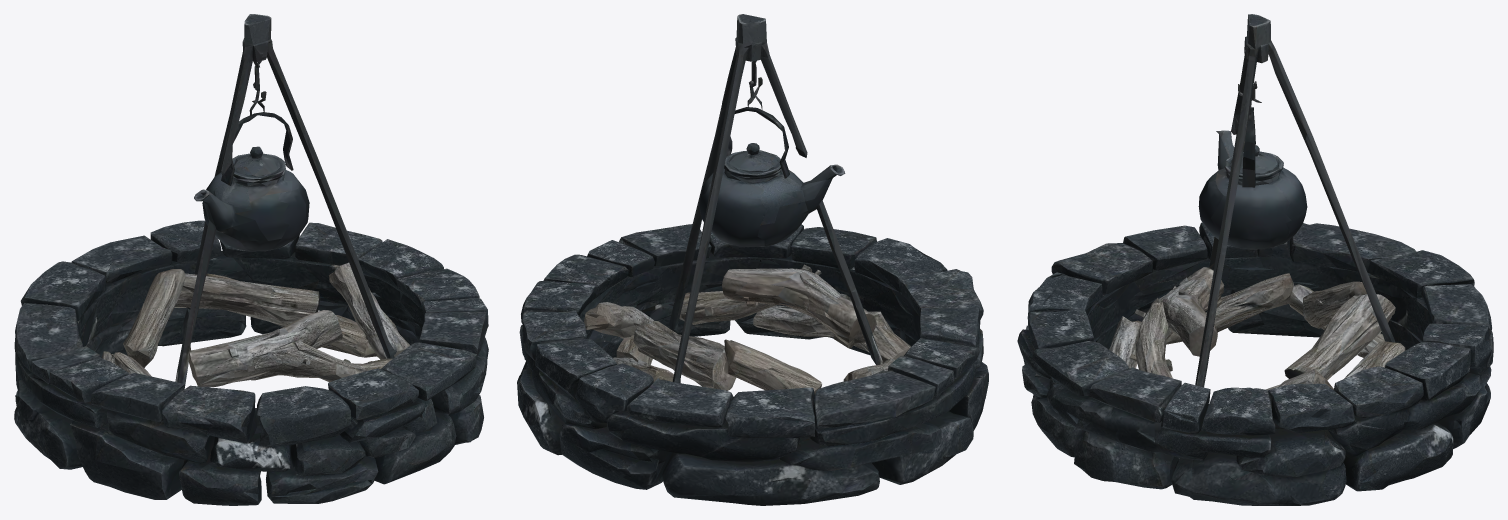
Rendered from campfire.glb.
3 renders of one model, left to right at view 1: azimuth 30°, elevation 25°; view 2: azimuth 150°, elevation 25°; view 3: azimuth 270°, elevation 25°, orthographic.
Size of the model in its own units: 1.9 by 1.72 by 1.89.
1 material, 1 textured.
